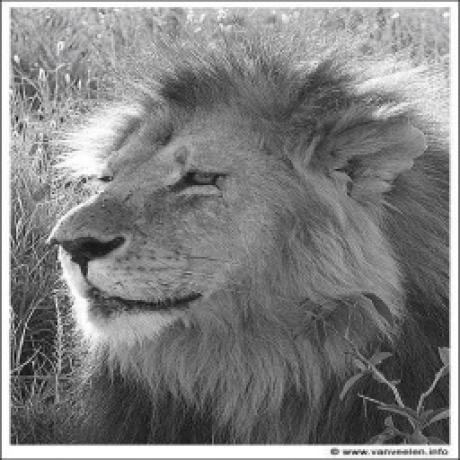Lion: (47, 29, 450, 444)
